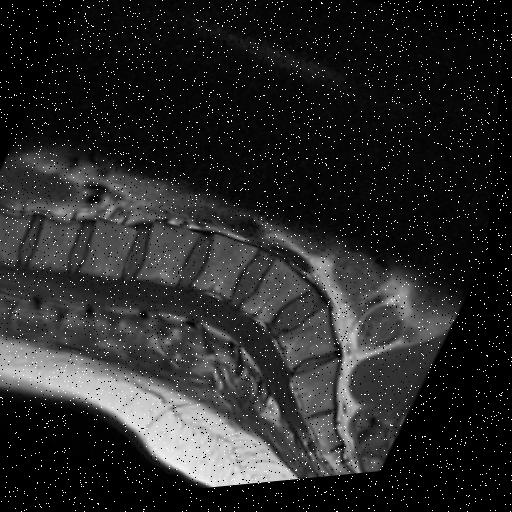L1: (84, 221, 142, 282)
L2: (143, 226, 206, 289)
L3: (197, 237, 262, 304)
L4: (247, 264, 317, 330)
L5: (286, 316, 346, 375)
S1: (300, 364, 348, 423)
